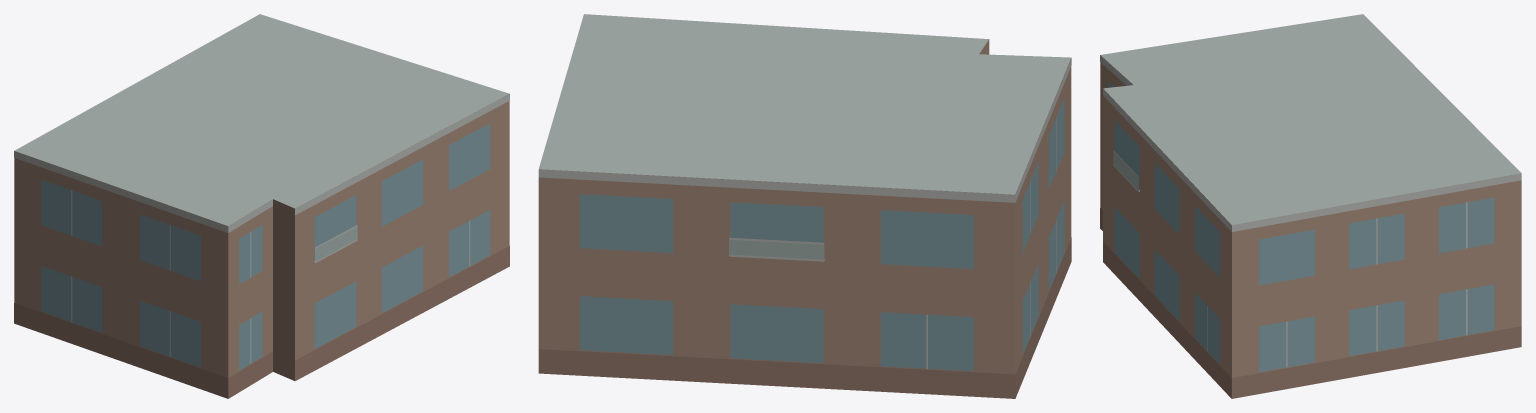
The model's file is survey-upis-32673742.glb.
3 renders of one model, left to right at view 1: azimuth 30°, elevation 25°; view 2: azimuth 150°, elevation 25°; view 3: azimuth 270°, elevation 25°, orthographic. The views are drawn at different scales.
Parts seen in each view (by area): view 1: survey-upis-32673742.tmp; view 2: survey-upis-32673742.tmp; view 3: survey-upis-32673742.tmp.
Boxes of the visible parts, bbox=[...] form: survey-upis-32673742.tmp: bbox=[14, 14, 509, 398]; survey-upis-32673742.tmp: bbox=[538, 14, 1071, 398]; survey-upis-32673742.tmp: bbox=[1100, 14, 1521, 398].
Size of the model in its own units: 15.91 by 6.1 by 13.42.
